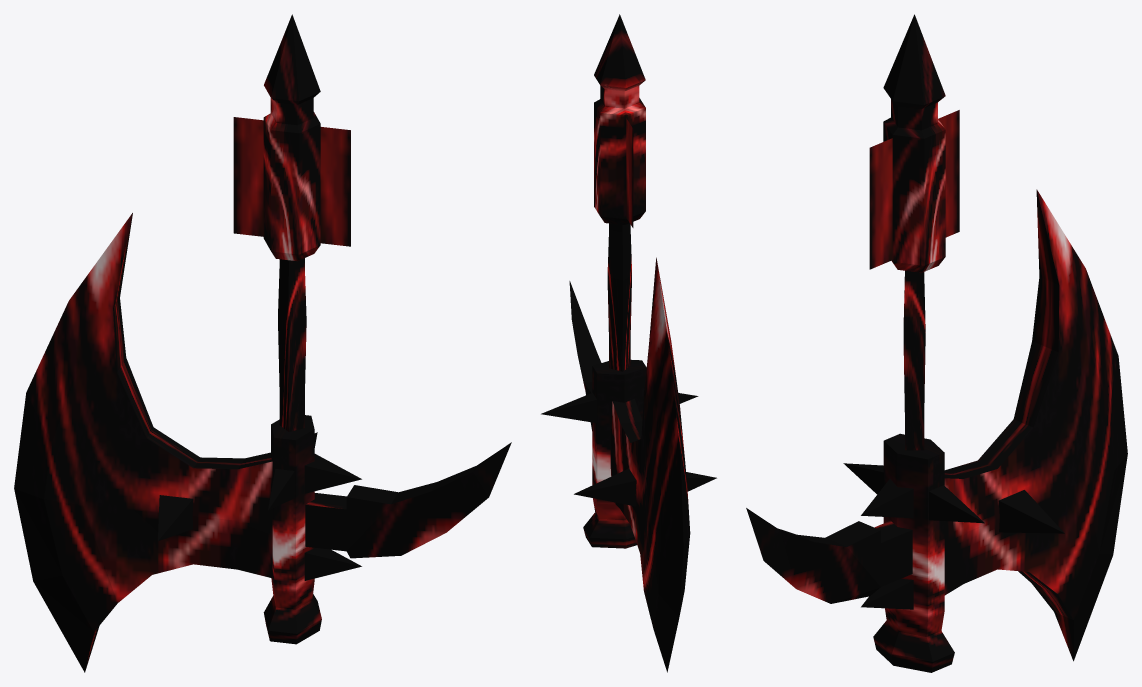
The model's file is tx_xuemai_shalu_fire_a.obj.
3 views of the same model, side by side, from view 1: azimuth 30°, elevation 25°; view 2: azimuth 150°, elevation 25°; view 3: azimuth 270°, elevation 25° (orthographic). The views are drawn at different scales.
Visible parts, largest first — view 1: sdfsd; view 2: sdfsd; view 3: sdfsd.
Boxes of the visible parts, box(x1,y1,x2,y2) form: sdfsd: box(14, 14, 511, 672); sdfsd: box(541, 14, 716, 672); sdfsd: box(746, 14, 1127, 672).
Size of the model in its own units: 21.34 by 44.09 by 21.34.
1 material, 1 textured.
